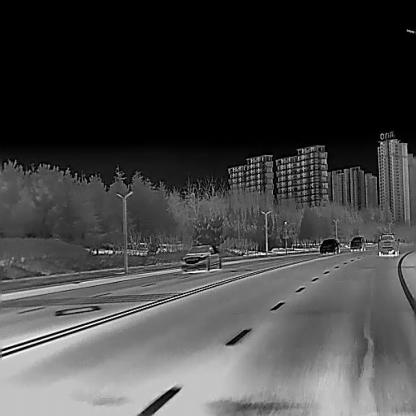car: (180, 242, 221, 272), (377, 232, 400, 256), (318, 236, 340, 254), (349, 235, 366, 251)
